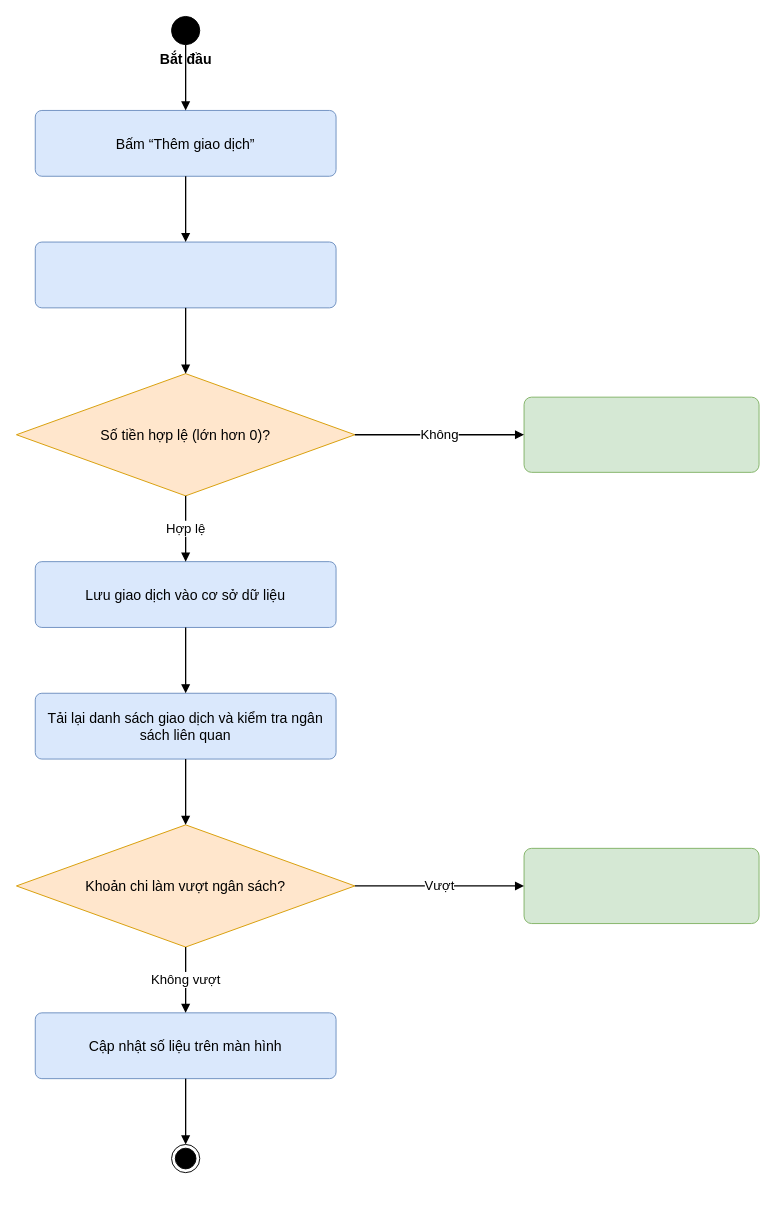
This 776x1213 diagram has some shape labels left out. The centre of each missing label's shape, as x and y in pixels:
"Báo lỗi: số tiền không hợp lệ" goes at pixel 641 434.
"Chọn loại Thu/Chi, nhập số tiền, danh mục, ngày, mô tả" goes at pixel 185 274.
"Hiển thị cảnh báo vượt ngân sách" goes at pixel 641 885.
"Kết thúc" goes at pixel 185 1158.
